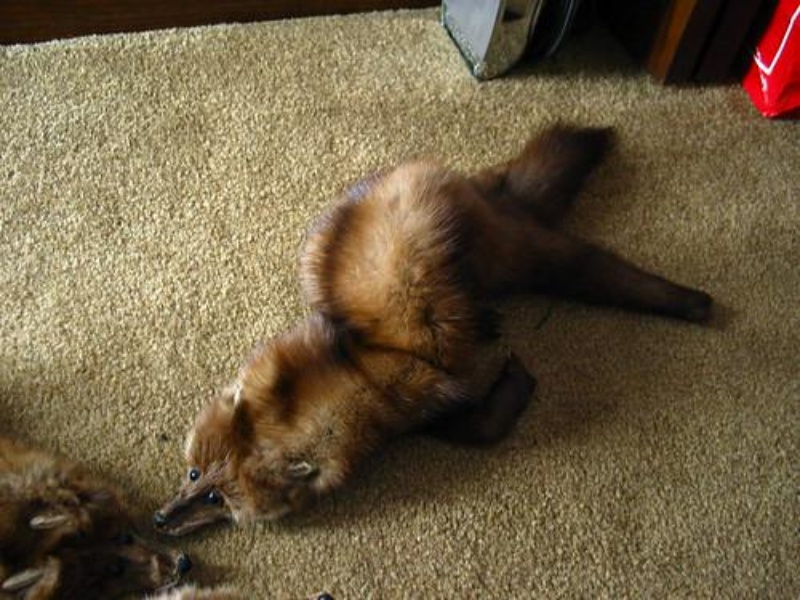minkish: (152, 121, 722, 540)
